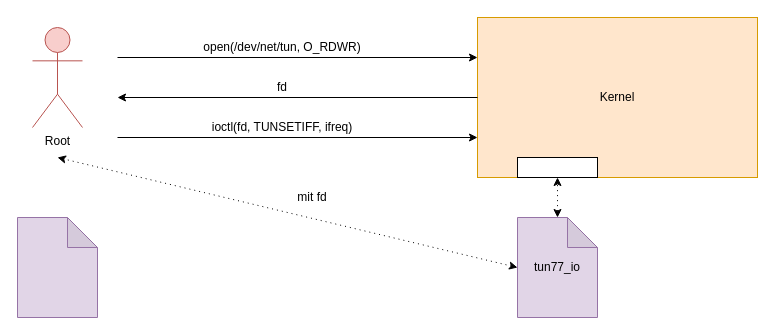
Image size: 775x335. Some labels were removed from this diagram. The shapes that lost their labels are listed below. From the top down, each one's centre as x and y in pixels, then its label:
At [557,167]: "tun77".
At [57,267]: "/dev/net/tun".
